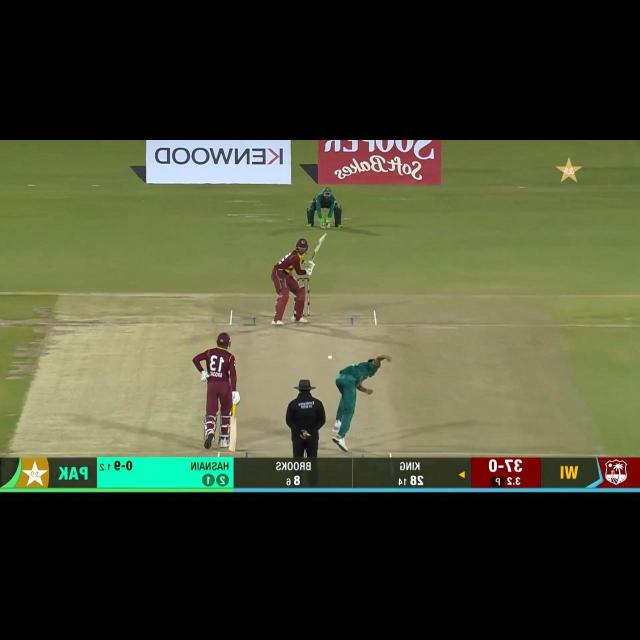bat: (309, 232, 328, 260), (227, 416, 238, 454)
toe: (320, 233, 328, 241), (228, 447, 235, 453)
